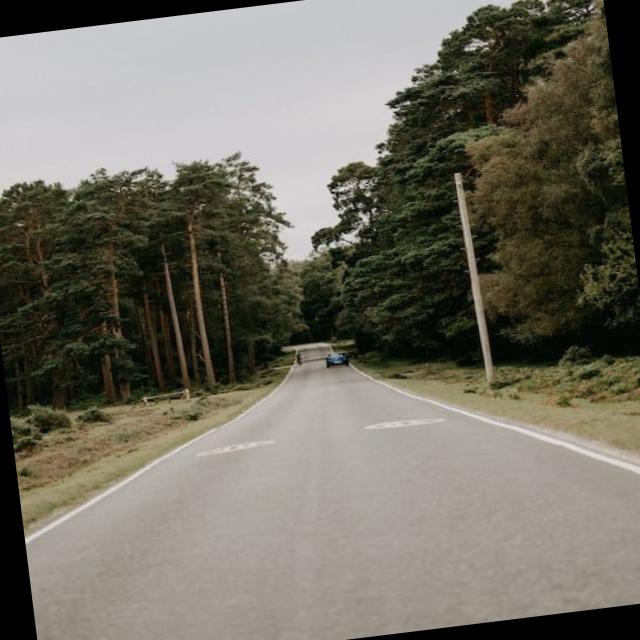asphalt: (27, 343, 640, 640)
grass: (17, 354, 293, 532), (356, 356, 640, 451)
